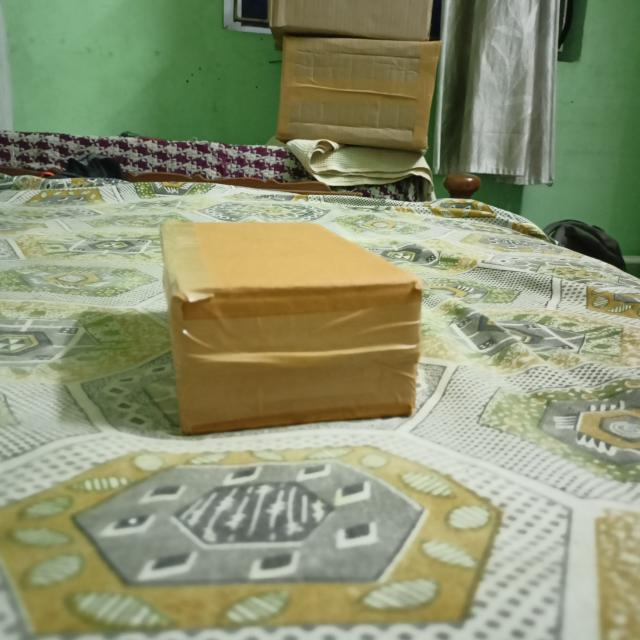box: (180, 281, 423, 438)
